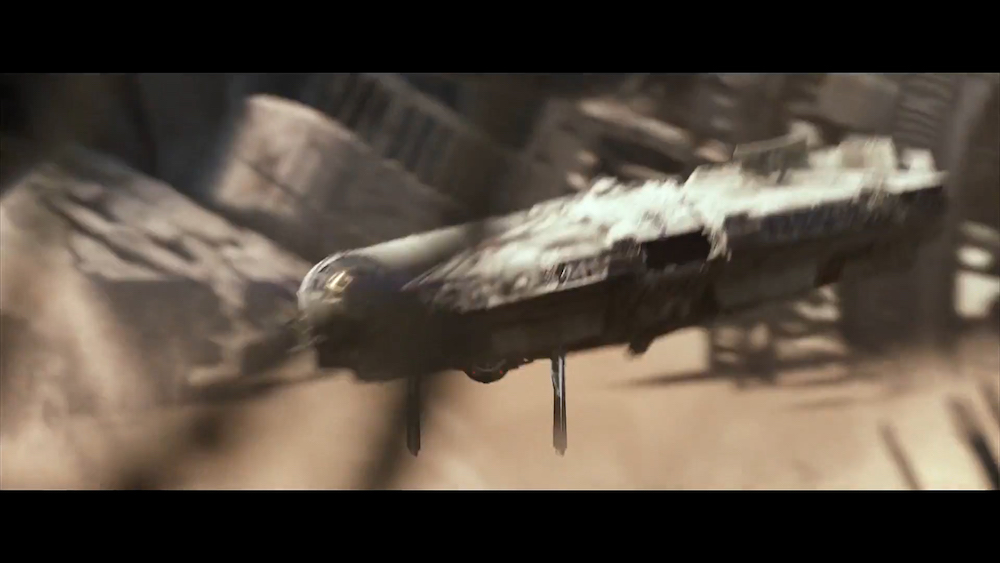Millennium Falcon: (297, 140, 949, 380)
Tie Fighter: (406, 248, 569, 458)
